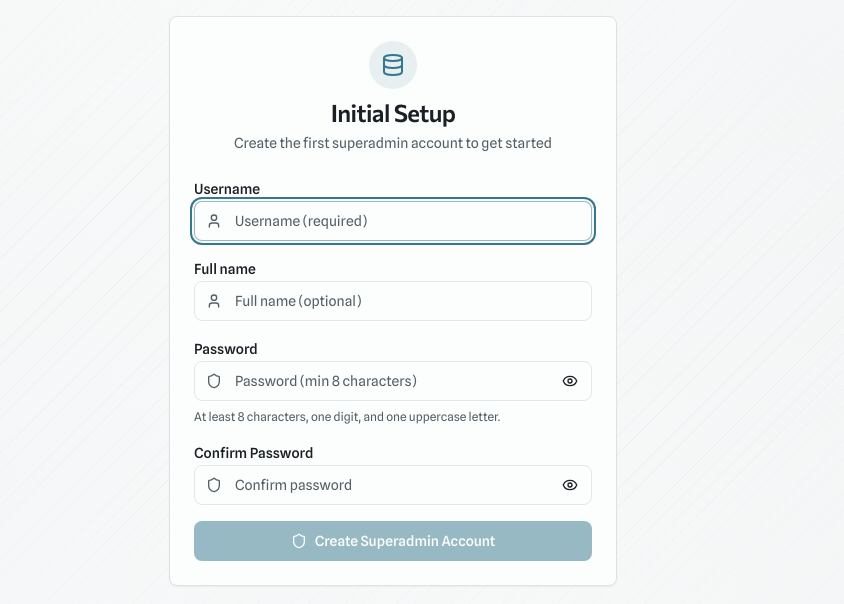
Test: SetupPage › enables submit button when form is complete
Fill form
In the field with placeholder "Username (required)": (393, 221) [194,201,592,241], type "newadmin"
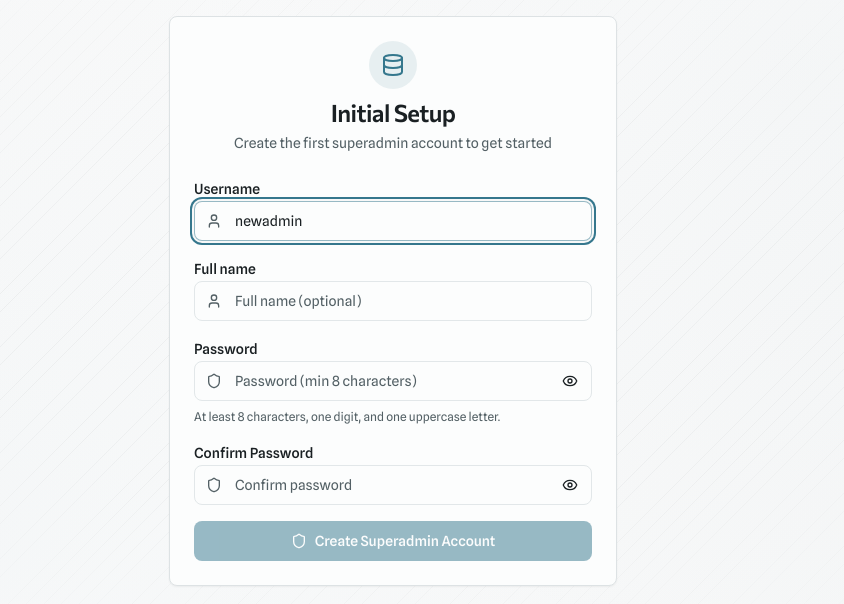
In the password field with placeholder "Password (min 8 characters)": (393, 381) [194,361,592,401], type "password123"
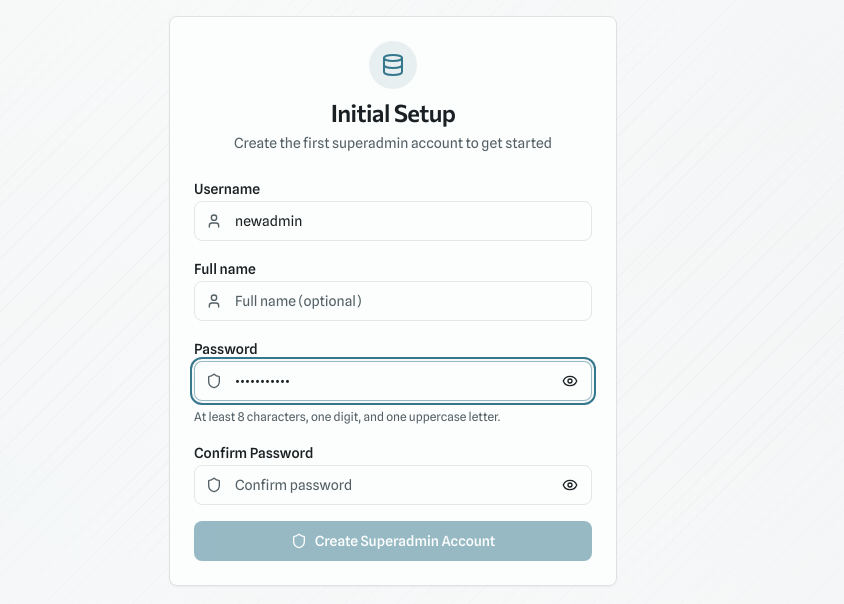
In the password field with placeholder "Confirm Password": (393, 485) [194,465,592,505], type "password123"
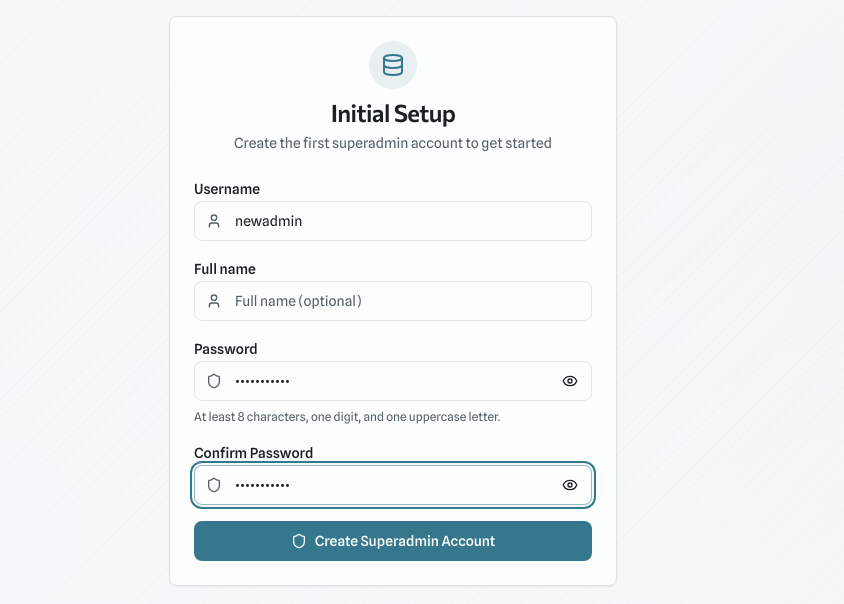
Result: the button "Create Superadmin Account" is enabled at [194,521,592,561]
